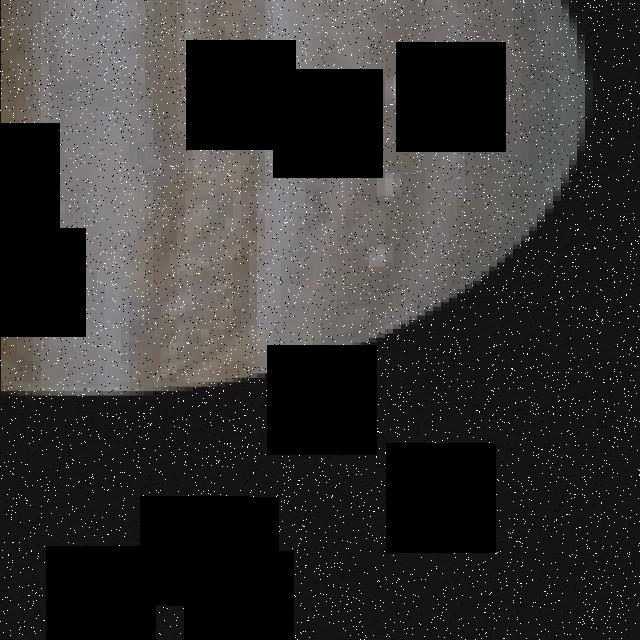Jupiter: (0, 0, 584, 391)
